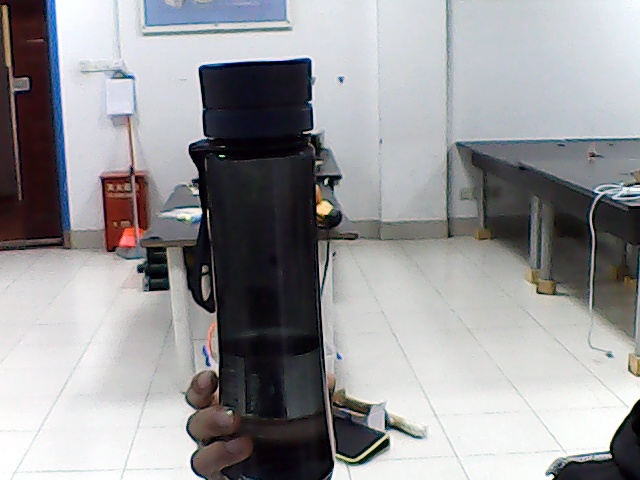cup: (227, 89, 297, 394)
